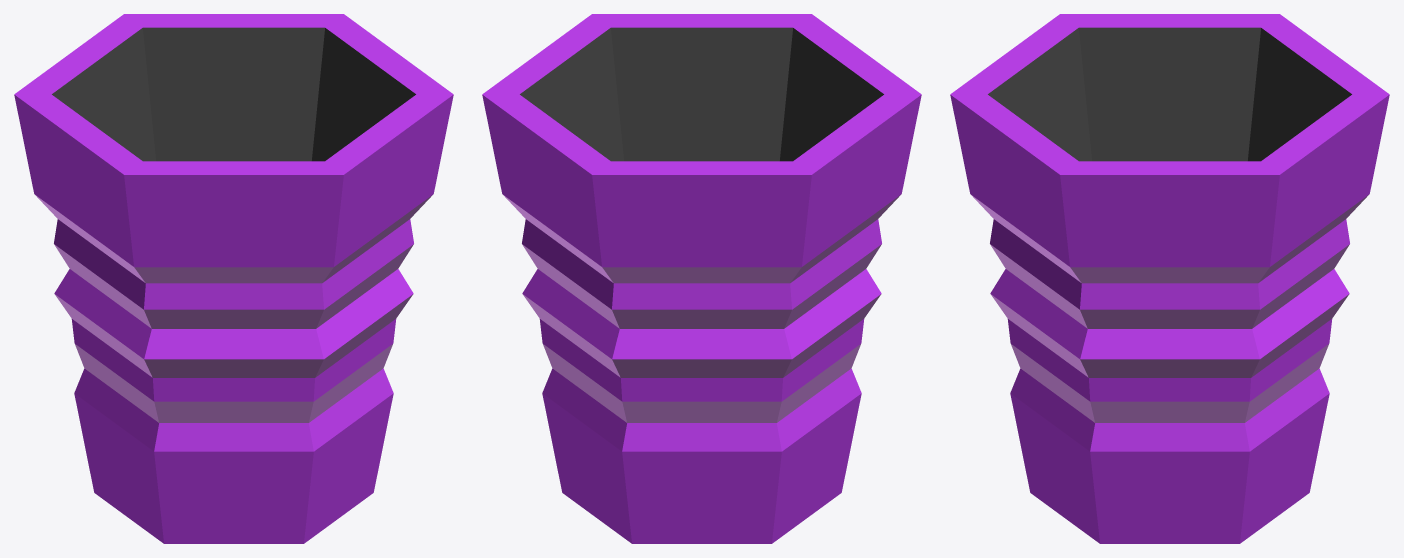
File: Purpule_cup.fbx
The picture shows the model from 3 angles, left to right: view 1: azimuth 30°, elevation 25°; view 2: azimuth 150°, elevation 25°; view 3: azimuth 270°, elevation 25°; orthographic projection.
Parts seen in each view (by area): view 1: Cylinder.008; view 2: Cylinder.008; view 3: Cylinder.008.
Boxes of the visible parts, <box> form: Cylinder.008: <box>14,14,453,543</box>; Cylinder.008: <box>482,14,921,543</box>; Cylinder.008: <box>950,14,1389,543</box>.
Bounding box in the file's own units: 89.02 × 103 × 103.
